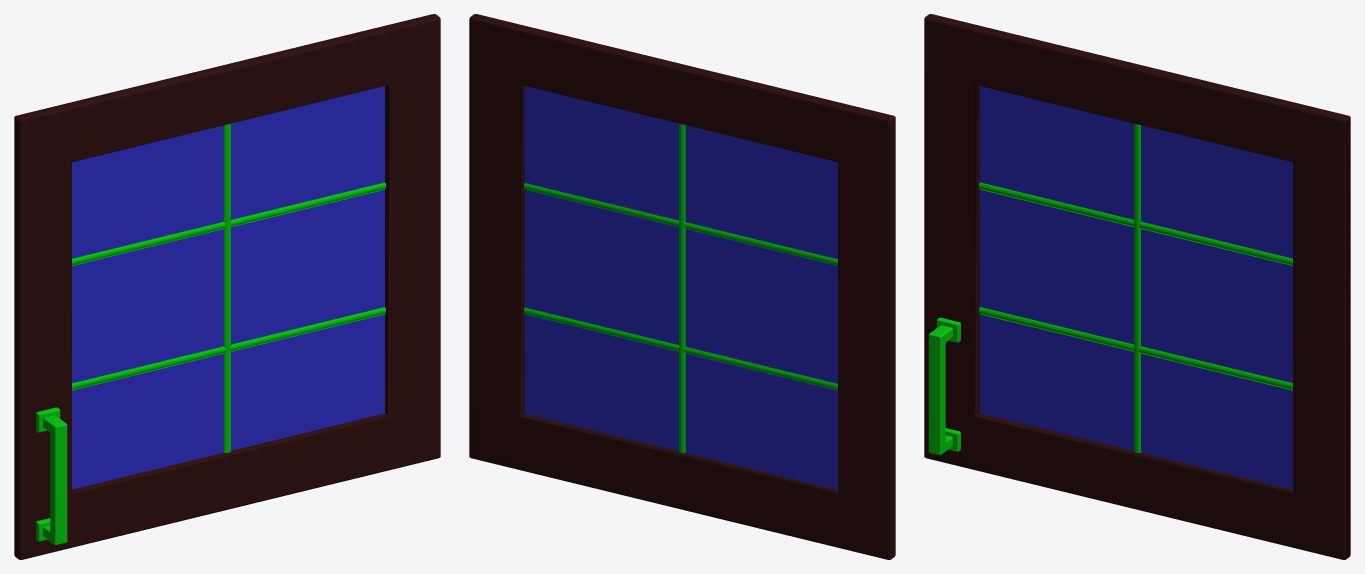
The model's file is kuchnia_03_szafka_wiszaca_drzwi_mirror.fbx.
3 views of the same model, side by side, from view 1: azimuth 30°, elevation 25°; view 2: azimuth 150°, elevation 25°; view 3: azimuth 330°, elevation 25° (orthographic).
Visible parts, largest first — view 1: Mesh; view 2: Mesh; view 3: Mesh.
Part boxes in pixels (x1,y1,x2,y2): Mesh: (14, 14, 440, 559); Mesh: (469, 14, 895, 559); Mesh: (924, 14, 1350, 559).
Size of the model in its own units: 80 by 79.94 by 7.21.
